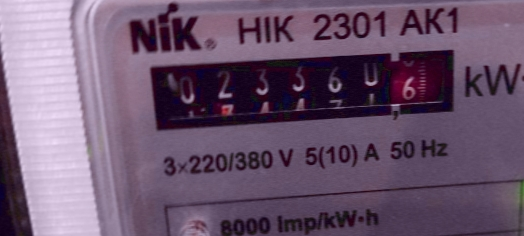0: (174, 73, 196, 107), (357, 59, 379, 90)
2: (213, 68, 233, 101)
3: (287, 61, 306, 94), (249, 67, 268, 98)
6: (322, 63, 343, 96), (397, 72, 418, 105)
screen: (132, 42, 470, 137)
